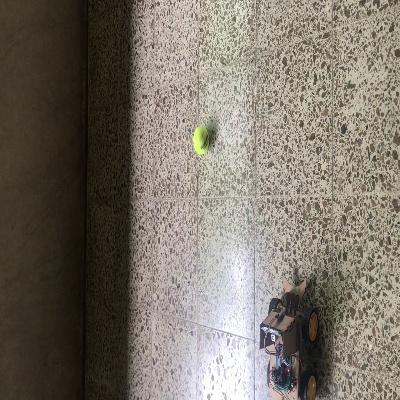Ball: (191, 127, 209, 154)
Robot: (259, 274, 320, 399)
